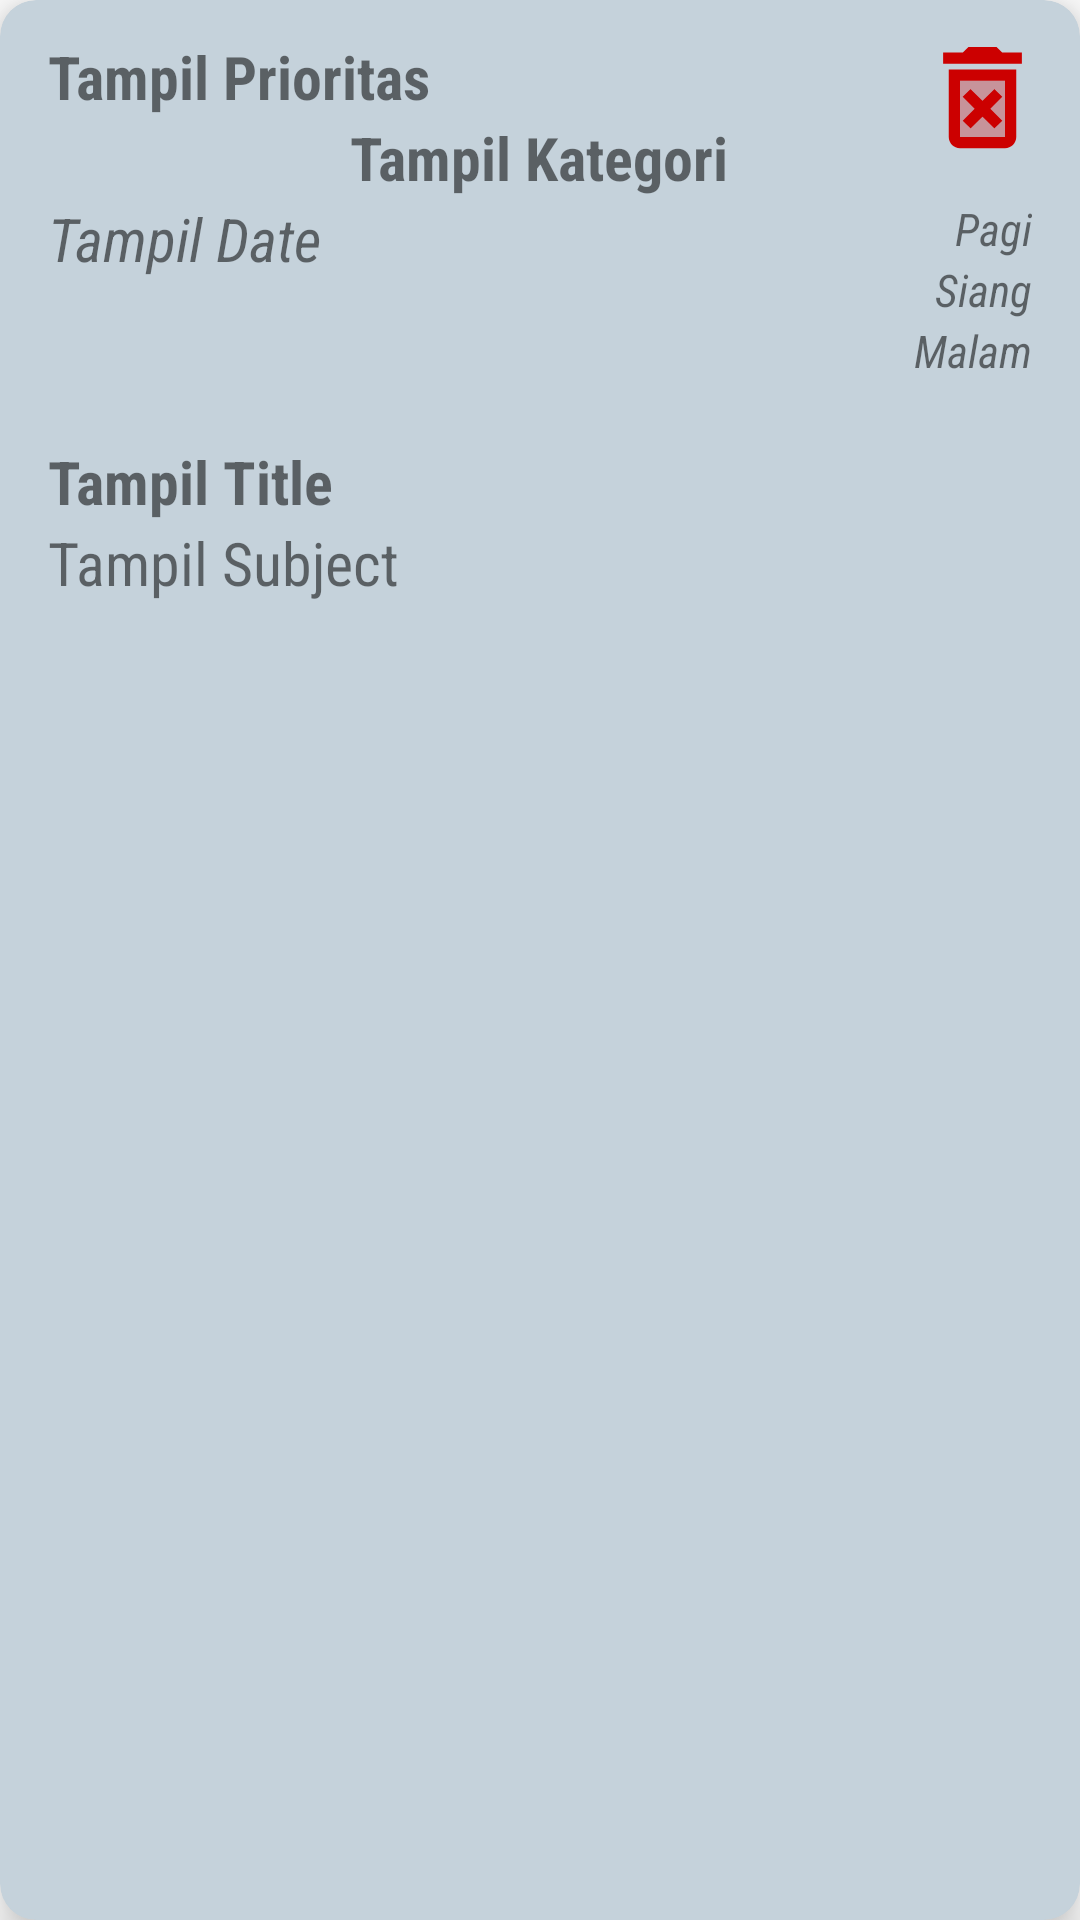

Icon click points for this 1080*1920 phone screenshot, format point (x, y):
delete: point (982, 98)
